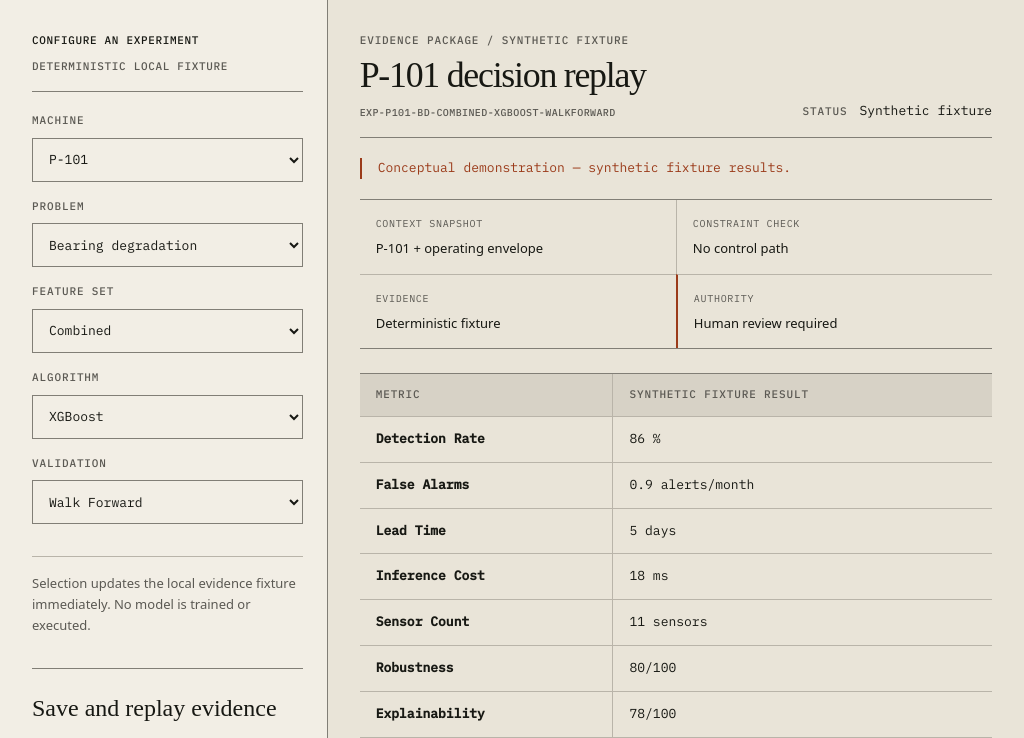
Scenario: ExperimentDemo › recomputes deterministic evidence when Validation changes
The image size is (1024, 738).
Select "Leave-One-Regime-Out" in the dropdown labelled "Validation": (167, 502) [32,480,303,524]
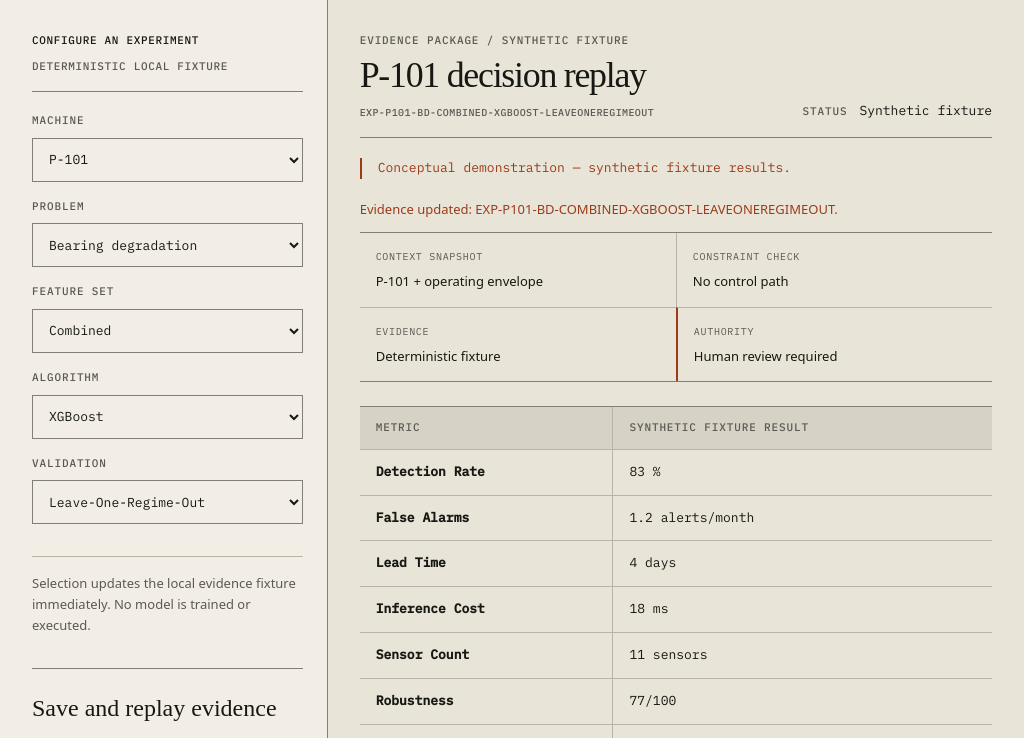
Expected: the text with test id "experiment-id" no longer shows "EXP-P101-BD-COMBINED-XGBOOST-WALKFORWARD", [360,105,654,121]
Expected: the message shows "Evidence updated: EXP-P101-BD-", [360,200,838,218]
